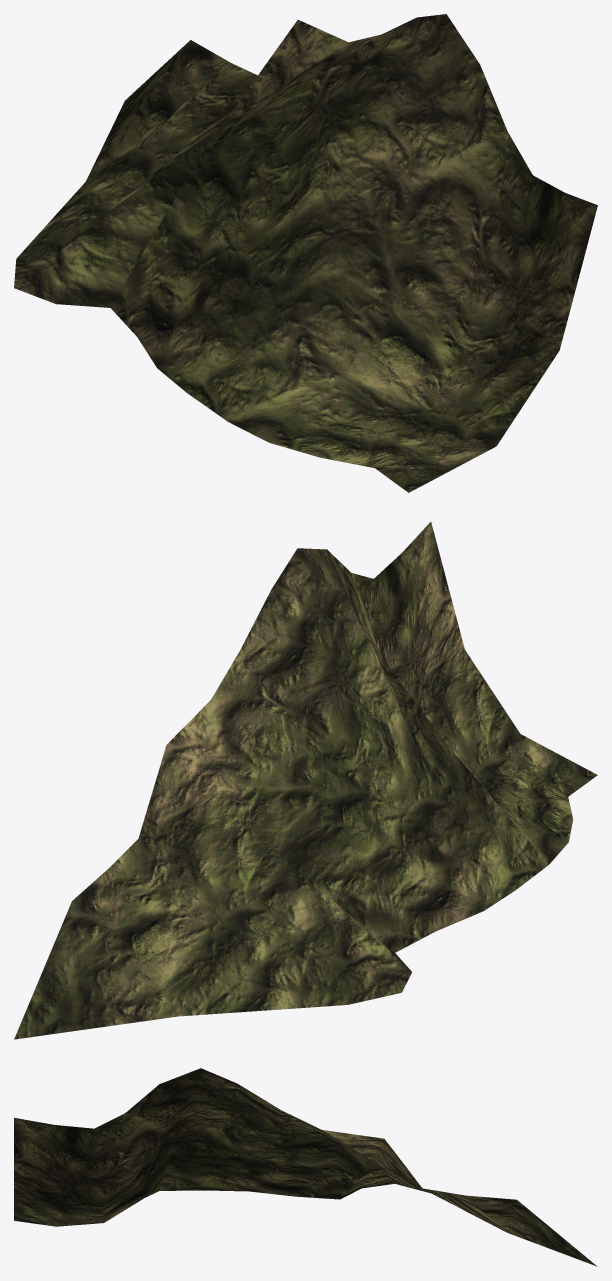
The model's file is shit_pile_end01.DAE.
3 views of the same model, one above another, from view 1: azimuth 30°, elevation 25°; view 2: azimuth 150°, elevation 25°; view 3: azimuth 270°, elevation 25° (orthographic). The views are drawn at different scales.
Parts seen in each view (by area): view 1: shit_pile; view 2: shit_pile; view 3: shit_pile.
Boxes of the visible parts, x1,y1,x2,y2 form: shit_pile: [14, 14, 597, 492]; shit_pile: [14, 522, 597, 1039]; shit_pile: [14, 1068, 597, 1266].
Size of the model in its own units: 1.2 by 3.57 by 1.34.
